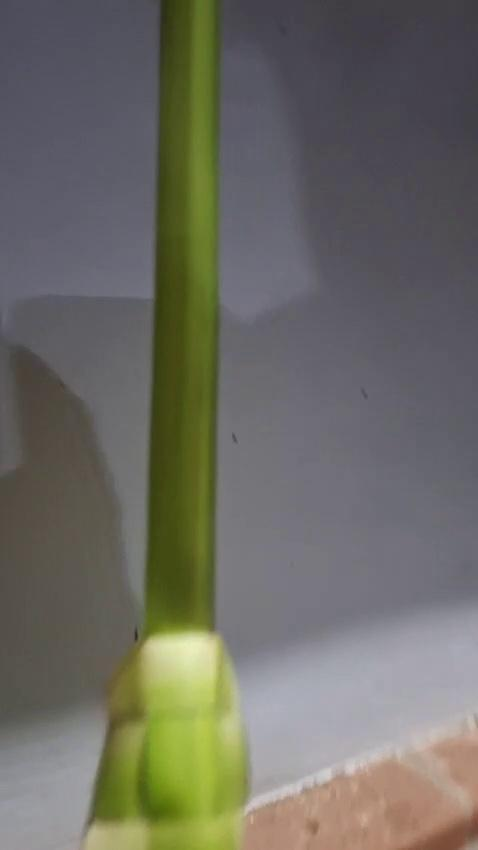Tipat Nasi: (76, 622, 259, 849)
